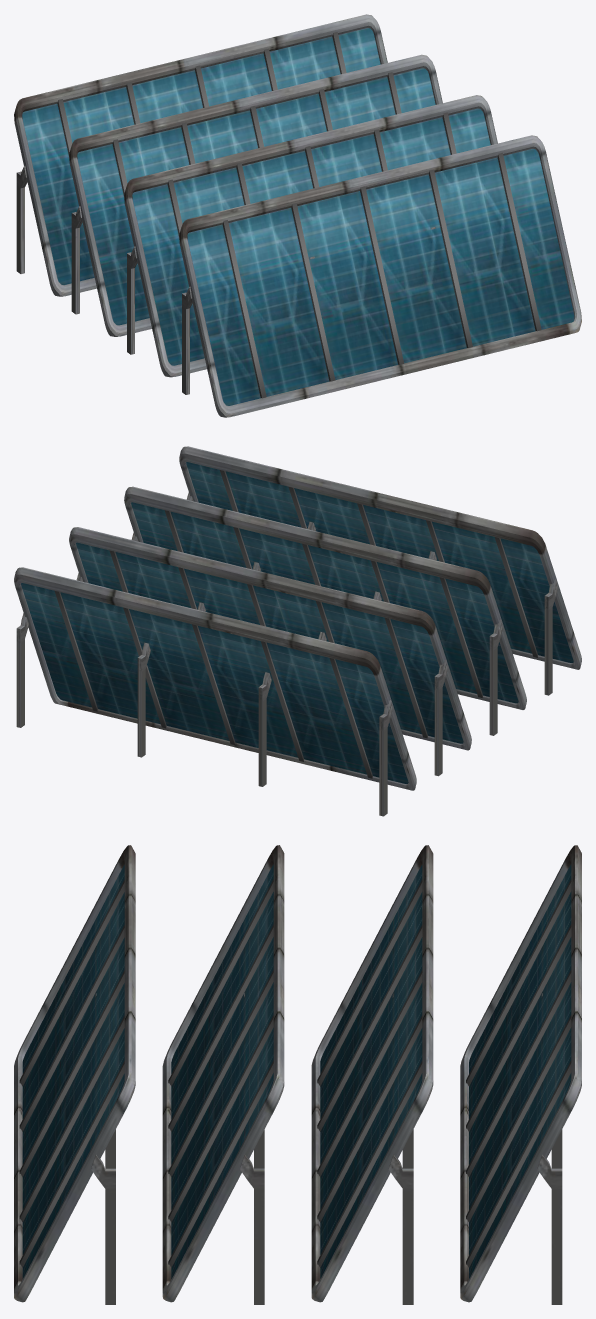
The model's file is solar-panel.glb.
3 views of the same model, one above another, from view 1: azimuth 30°, elevation 25°; view 2: azimuth 150°, elevation 25°; view 3: azimuth 270°, elevation 25° (orthographic). The views are drawn at different scales.
Parts seen in each view (by area): view 1: body; view 2: body; view 3: body.
Boxes of the visible parts, bbox=[...] form: body: bbox=[14, 14, 581, 417]; body: bbox=[14, 446, 581, 816]; body: bbox=[14, 845, 581, 1304].
Bounding box in the file's own units: 3 × 1.3 × 2.97.
1 material, 1 textured.
